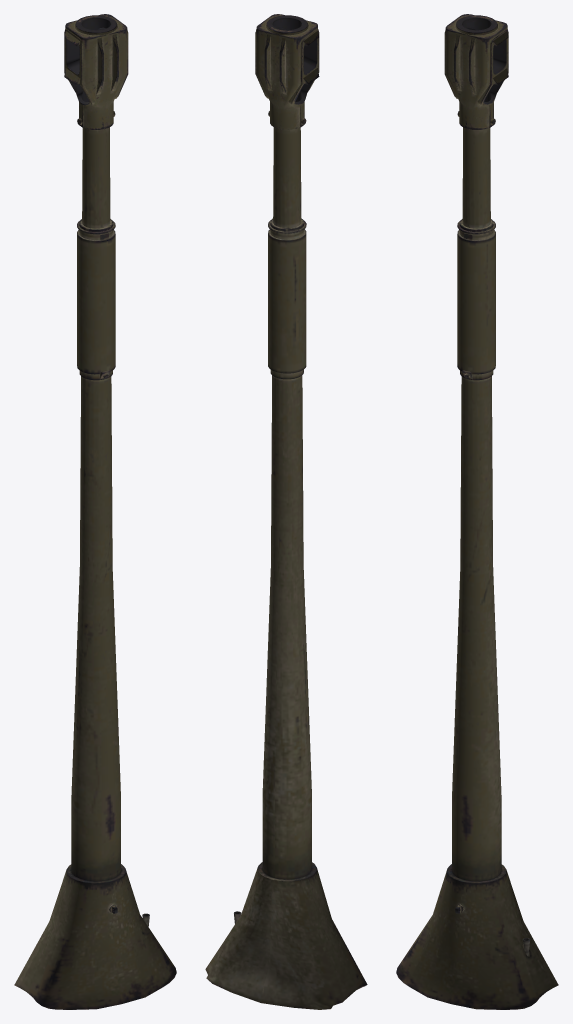
The model's file is Gun_02.glb.
3 views of the same model, side by side, from view 1: azimuth 30°, elevation 25°; view 2: azimuth 150°, elevation 25°; view 3: azimuth 330°, elevation 25° (orthographic).
Parts seen in each view (by area): view 1: set_0_group_0; view 2: set_0_group_0; view 3: set_0_group_0.
Boxes of the visible parts, <box> form: set_0_group_0: <box>14,14,176,1009</box>; set_0_group_0: <box>205,14,367,1009</box>; set_0_group_0: <box>396,14,558,1009</box>.
Size of the model in its own units: 0.8437 by 5.55 by 0.5489.
Materials: 1 (1 with a texture image).
